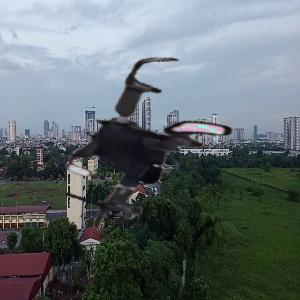drone: (52, 53, 259, 260)
